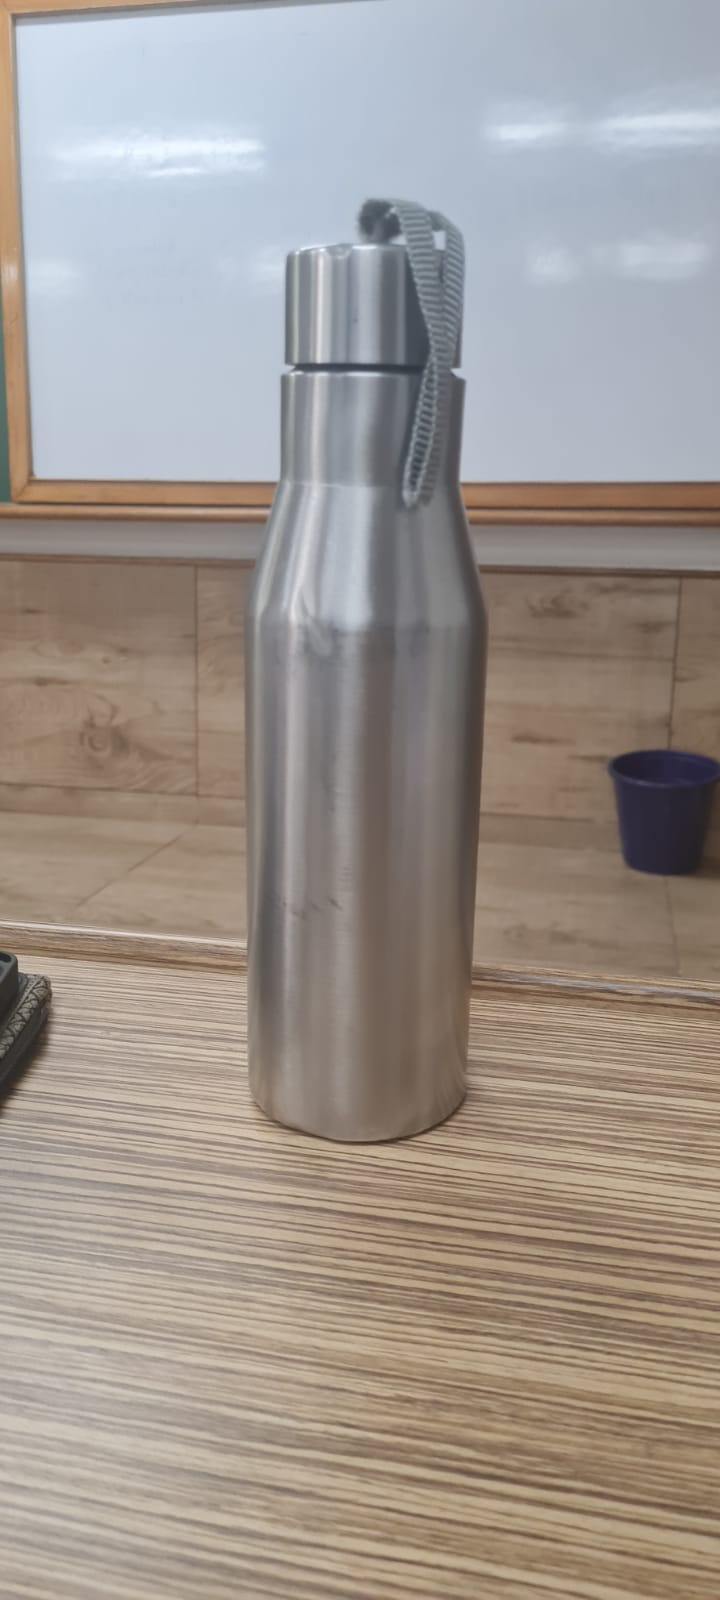bottle: (238, 190, 488, 1160)
